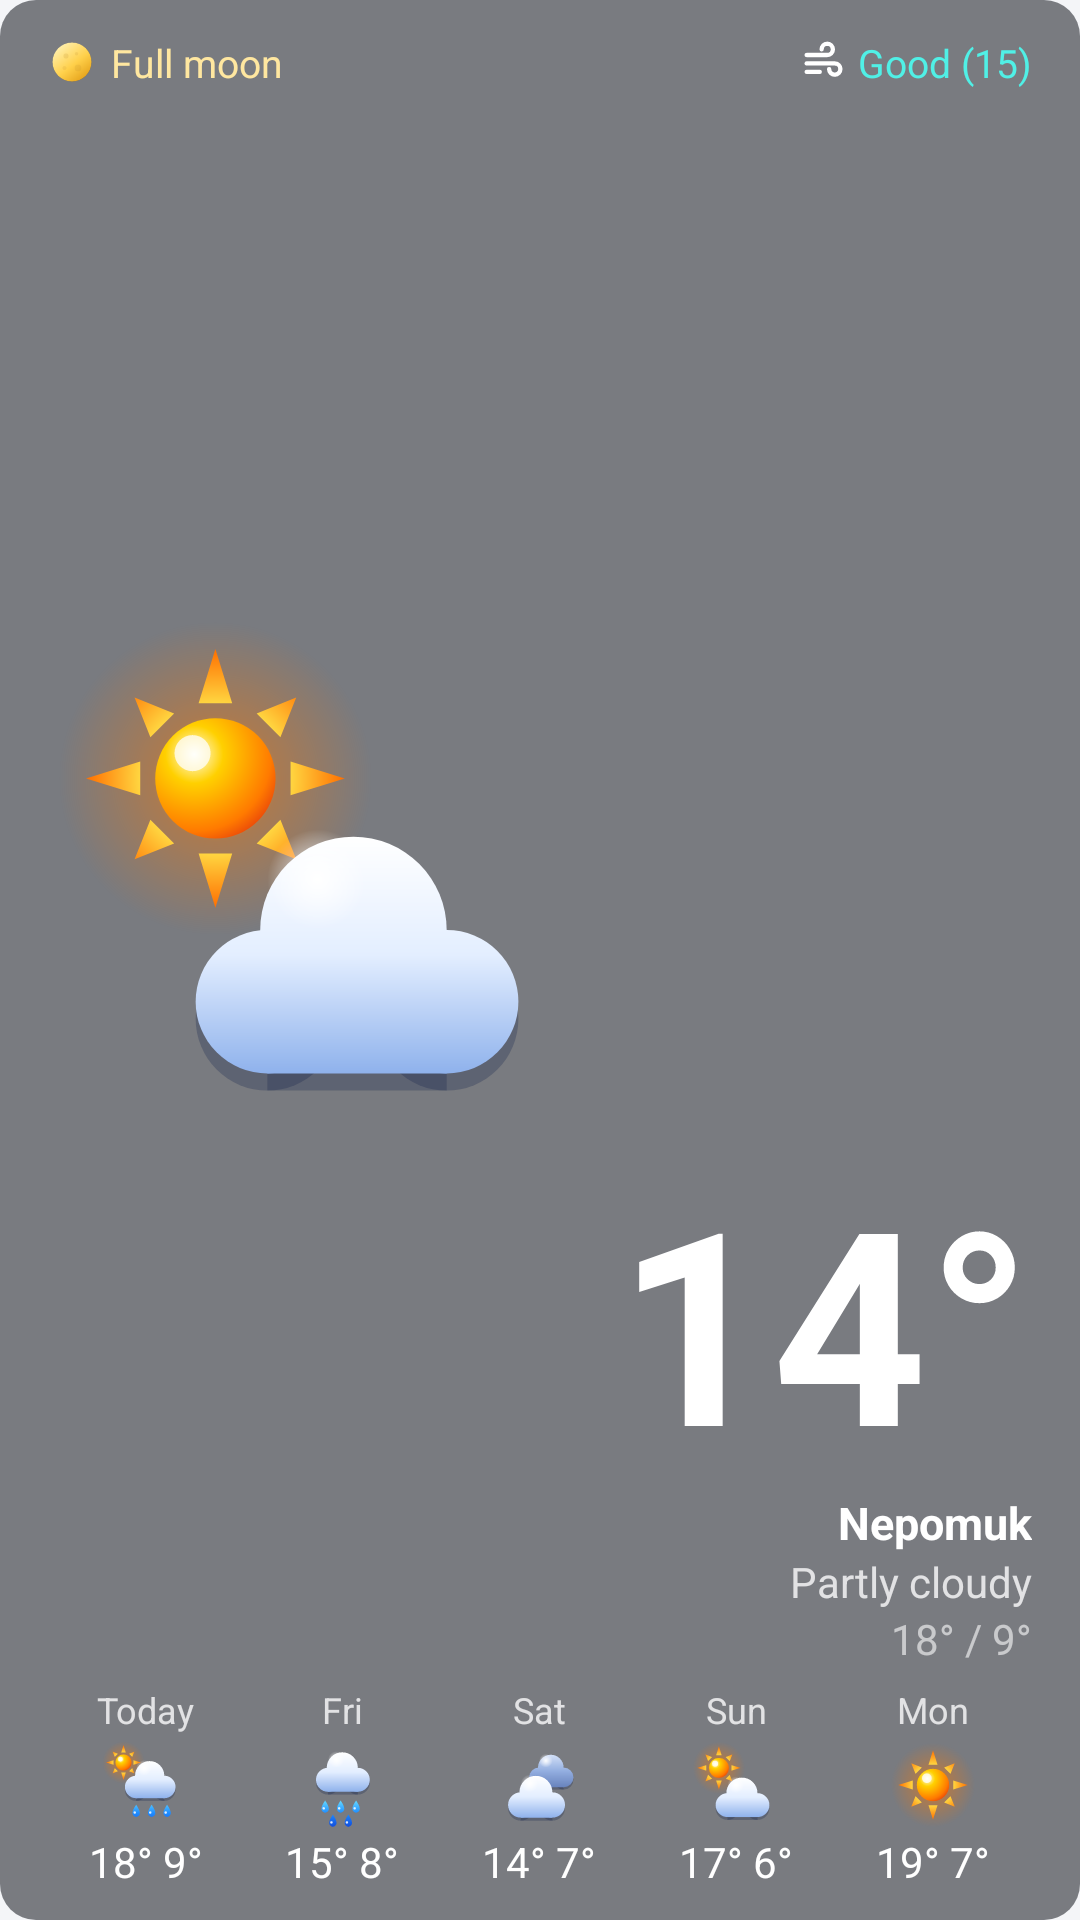

Locate icon controls on the screen. Image size 1080 x 1920, boxes as {"left": x1, "top": y1, "right": x2, "bottom": y2}.
air: {"left": 804, "top": 41, "right": 843, "bottom": 77}
clear day: {"left": 899, "top": 1751, "right": 967, "bottom": 1819}
overcast: {"left": 508, "top": 1754, "right": 574, "bottom": 1821}
rain: {"left": 316, "top": 1752, "right": 370, "bottom": 1827}
showers day: {"left": 106, "top": 1745, "right": 176, "bottom": 1817}
